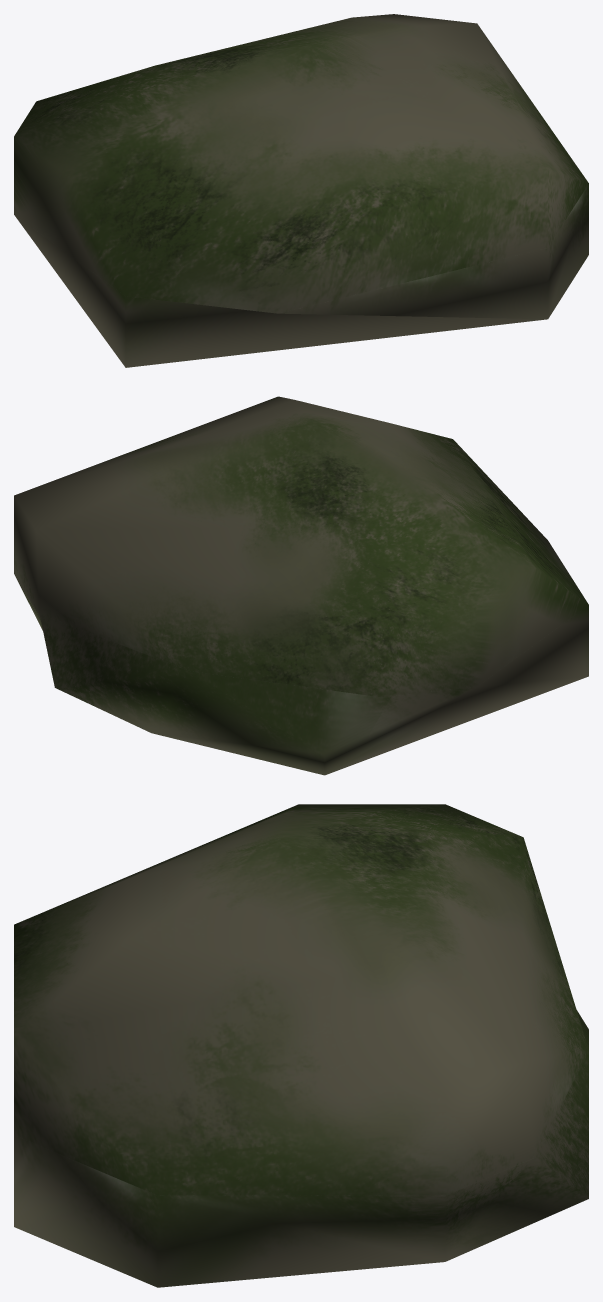
The model's file is MossyRock.obj.
3 renders of one model, top to bottom at view 1: azimuth 30°, elevation 25°; view 2: azimuth 150°, elevation 25°; view 3: azimuth 270°, elevation 25°, orthographic. The views are drawn at different scales.
Parts seen in each view (by area): view 1: pCube1_standardSurface2SG; view 2: pCube1_standardSurface2SG; view 3: pCube1_standardSurface2SG.
Part boxes in pixels (bbox=[...]): pCube1_standardSurface2SG: bbox=[14, 14, 588, 367]; pCube1_standardSurface2SG: bbox=[14, 396, 588, 775]; pCube1_standardSurface2SG: bbox=[14, 804, 588, 1287].
Bounding box in the file's own units: 2.14 × 1.02 × 1.79.
Materials: 1 (1 with a texture image).
